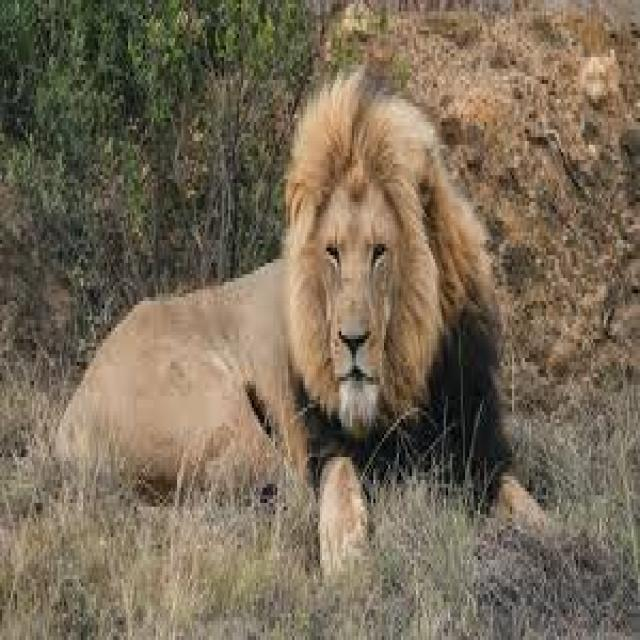Lion: (57, 70, 563, 578)
